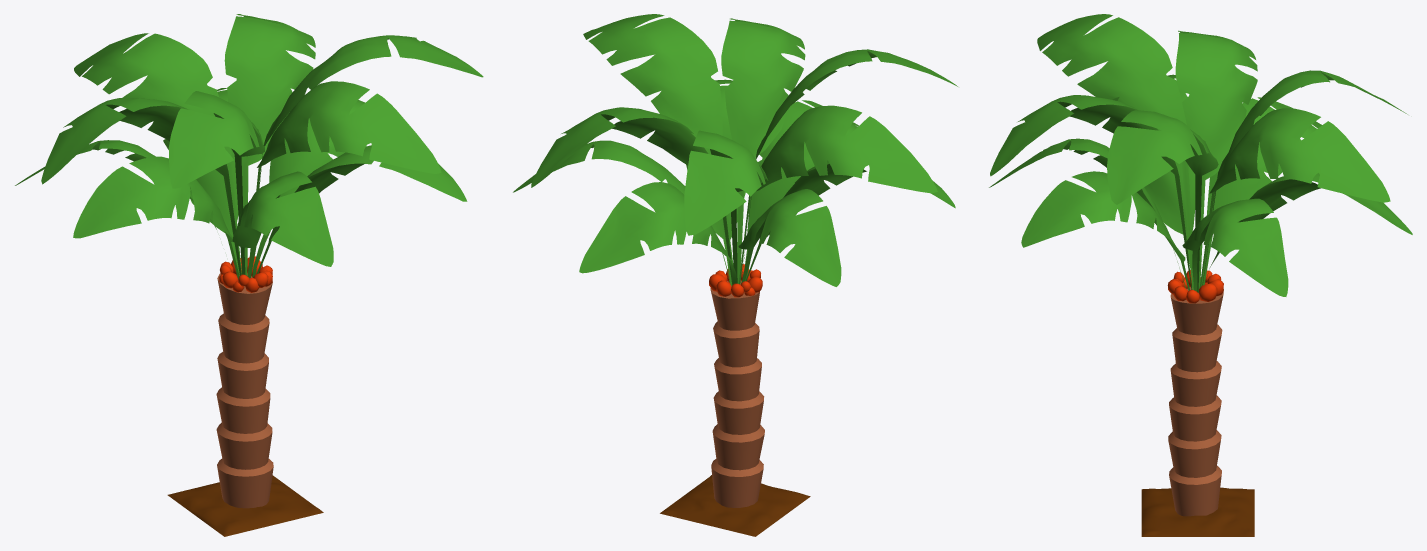
Rendered from oil-palm-p3-bloom.glb.
3 views of the same model, side by side, from view 1: azimuth 30°, elevation 25°; view 2: azimuth 150°, elevation 25°; view 3: azimuth 270°, elevation 25° (orthographic). The views are drawn at different scales.
Visible parts, largest first — view 1: 3_nft_bloom; view 2: 3_nft_bloom; view 3: 3_nft_bloom.
Part boxes in pixels (x1=…): 3_nft_bloom: x1=15, y1=14, x2=483, y2=536; 3_nft_bloom: x1=513, y1=14, x2=957, y2=536; 3_nft_bloom: x1=989, y1=14, x2=1412, y2=536.
Size of the model in its own units: 5.68 by 6.12 by 5.26.
